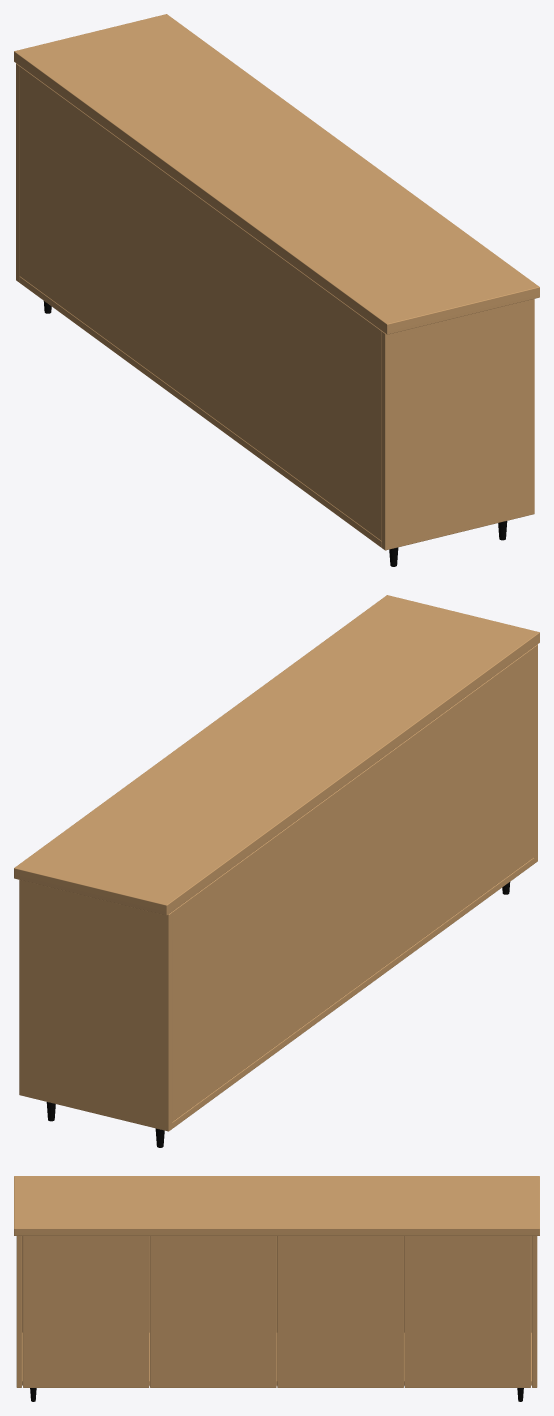
The model's file is credenza.fbx.
The picture shows the model from 3 angles, top to bottom: view 1: azimuth 30°, elevation 25°; view 2: azimuth 150°, elevation 25°; view 3: azimuth 270°, elevation 25°; orthographic projection. The views are drawn at different scales.
Visible parts, largest first — view 1: credenza; view 2: credenza; view 3: credenza.
Boxes of the visible parts, bbox=[...] form: credenza: bbox=[14, 14, 539, 566]; credenza: bbox=[14, 595, 539, 1147]; credenza: bbox=[14, 1176, 539, 1401].
Size of the model in its own units: 0.45 by 1.9 by 0.72.
